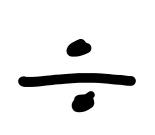div: (17, 40, 136, 112)
